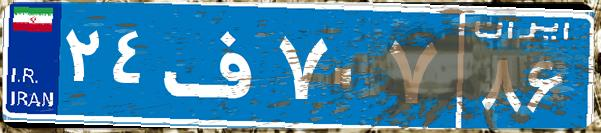0: (330, 28, 385, 110)
2: (57, 26, 110, 107)
4: (110, 28, 158, 105)
6: (525, 38, 570, 115)
7: (385, 28, 445, 110), (273, 28, 330, 110)
8: (475, 38, 525, 113)
ف: (158, 15, 273, 115)
